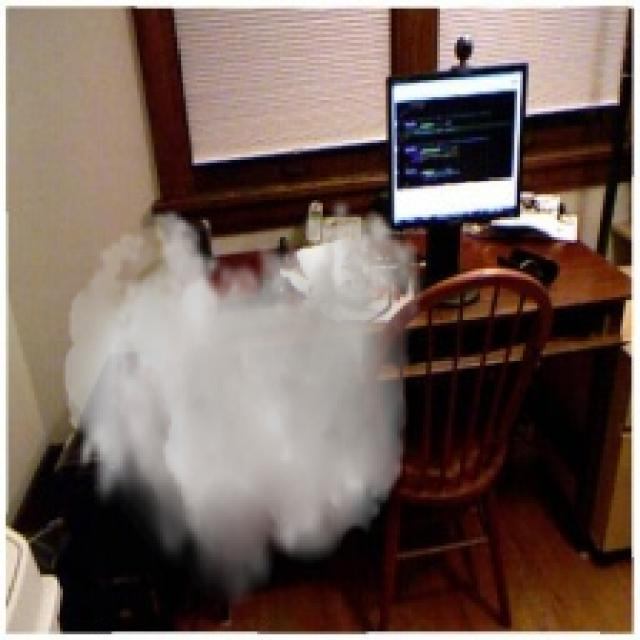smoke: (63, 195, 423, 614)
